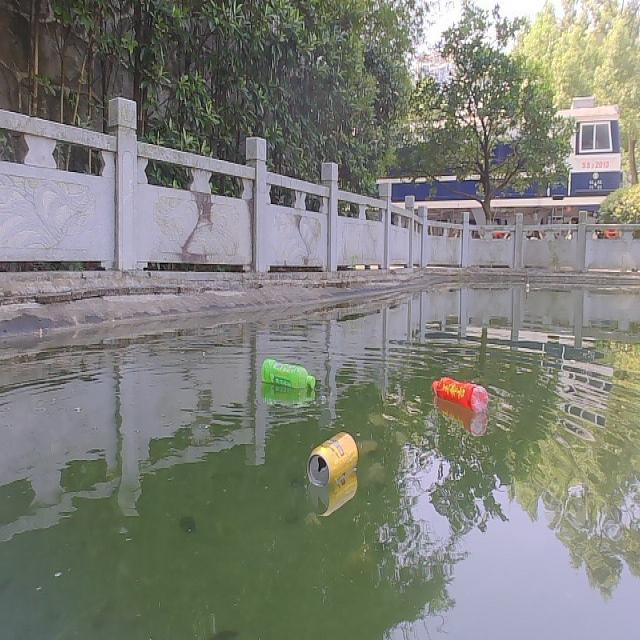bottle: (423, 372, 490, 411), (256, 354, 317, 394)
can: (301, 428, 358, 488)
